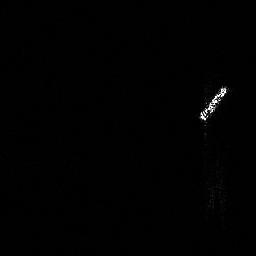ship: (195, 82, 230, 124)
